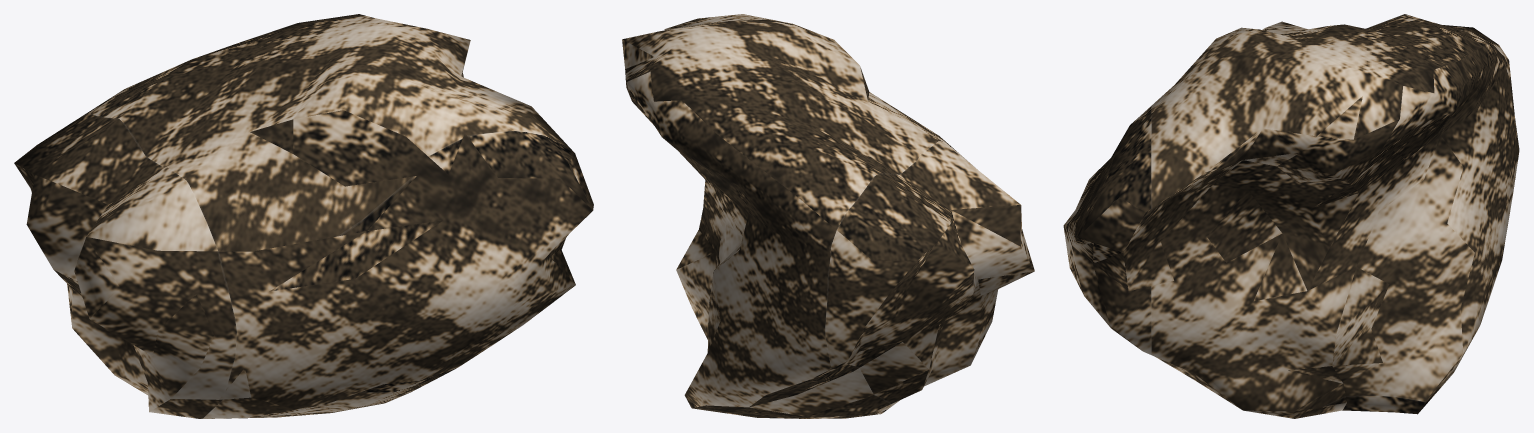
Rendered from asteroidHardest.FBX.
3 renders of one model, left to right at view 1: azimuth 30°, elevation 25°; view 2: azimuth 150°, elevation 25°; view 3: azimuth 270°, elevation 25°, orthographic. The views are drawn at different scales.
Visible parts, largest first — view 1: GeoSphere01; view 2: GeoSphere01; view 3: GeoSphere01.
Boxes of the visible parts, x1=… form: GeoSphere01: x1=14, y1=14, x2=593, y2=418; GeoSphere01: x1=622, y1=14, x2=1034, y2=418; GeoSphere01: x1=1063, y1=14, x2=1519, y2=418.
Size of the model in its own units: 123 by 99.95 by 107.
1 material, 1 textured.
